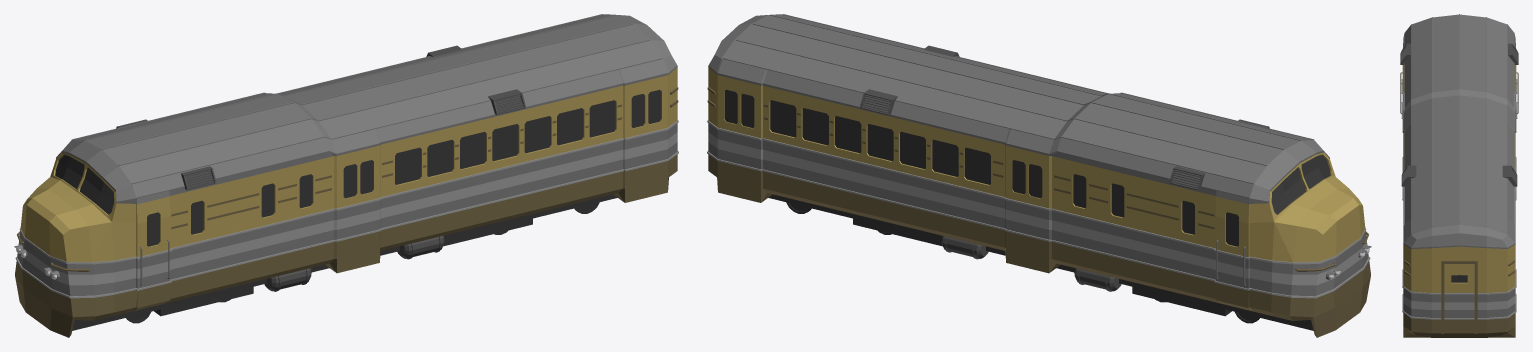
Rendered from cargotrain_front.glb.
3 views of the same model, side by side, from view 1: azimuth 30°, elevation 25°; view 2: azimuth 150°, elevation 25°; view 3: azimuth 270°, elevation 25° (orthographic). The views are drawn at different scales.
Parts seen in each view (by area): view 1: Train; view 2: Train; view 3: Train.
Boxes of the visible parts, left/top/right/bottom form: Train: left=14, top=14, right=678, bottom=337; Train: left=707, top=14, right=1371, bottom=337; Train: left=1400, top=14, right=1518, bottom=337.
Bounding box in the file's own units: 10.35 × 2.68 × 2.15.
